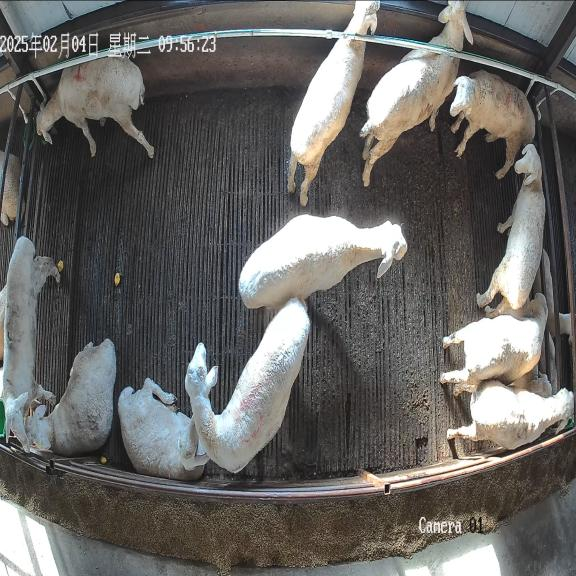drinking: (37, 57, 154, 157)
lying: (25, 339, 116, 456), (118, 378, 209, 480), (500, 303, 551, 396)
stand: (185, 299, 310, 473), (360, 0, 473, 186), (288, 0, 380, 206), (239, 214, 407, 308), (2, 236, 60, 450), (477, 143, 545, 317), (440, 293, 548, 396), (450, 71, 535, 179), (447, 380, 573, 449)
